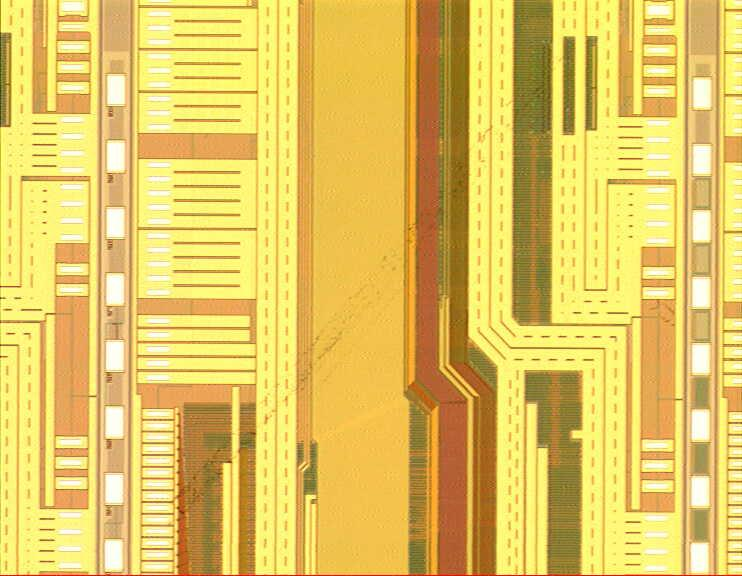SCRATCH: (127, 11, 639, 563)
